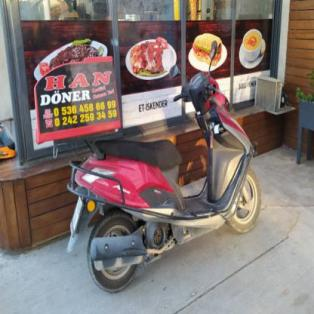Motocicleta: (69, 44, 265, 296)
